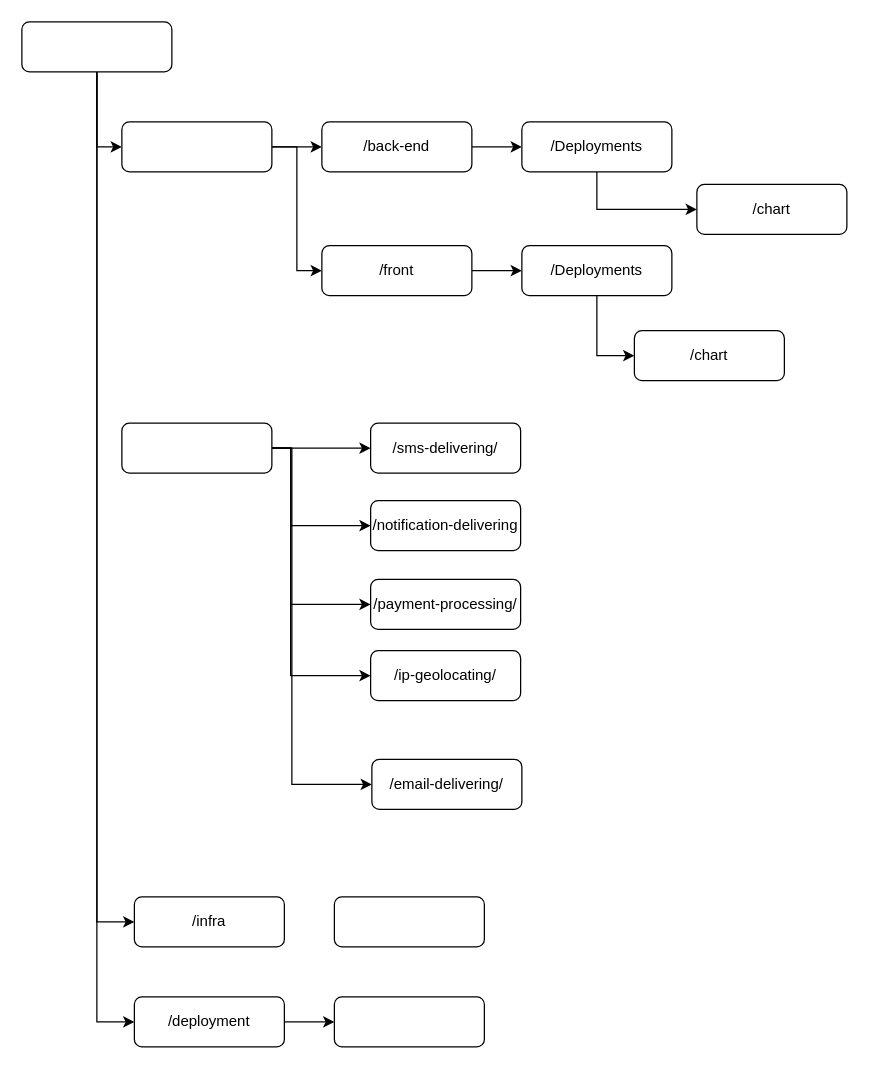
Some shapes in this 869 by 1069 pixel diagram are drawn without their labels. Each missing label, with the centre of its shape:
"/api" belongs at point 196,447.
"/app" belongs at point 196,146.
"appstract application root" belongs at point 96,46.
"CI/CD" belongs at point 408,1021.
"terraform" belongs at point 408,921.
